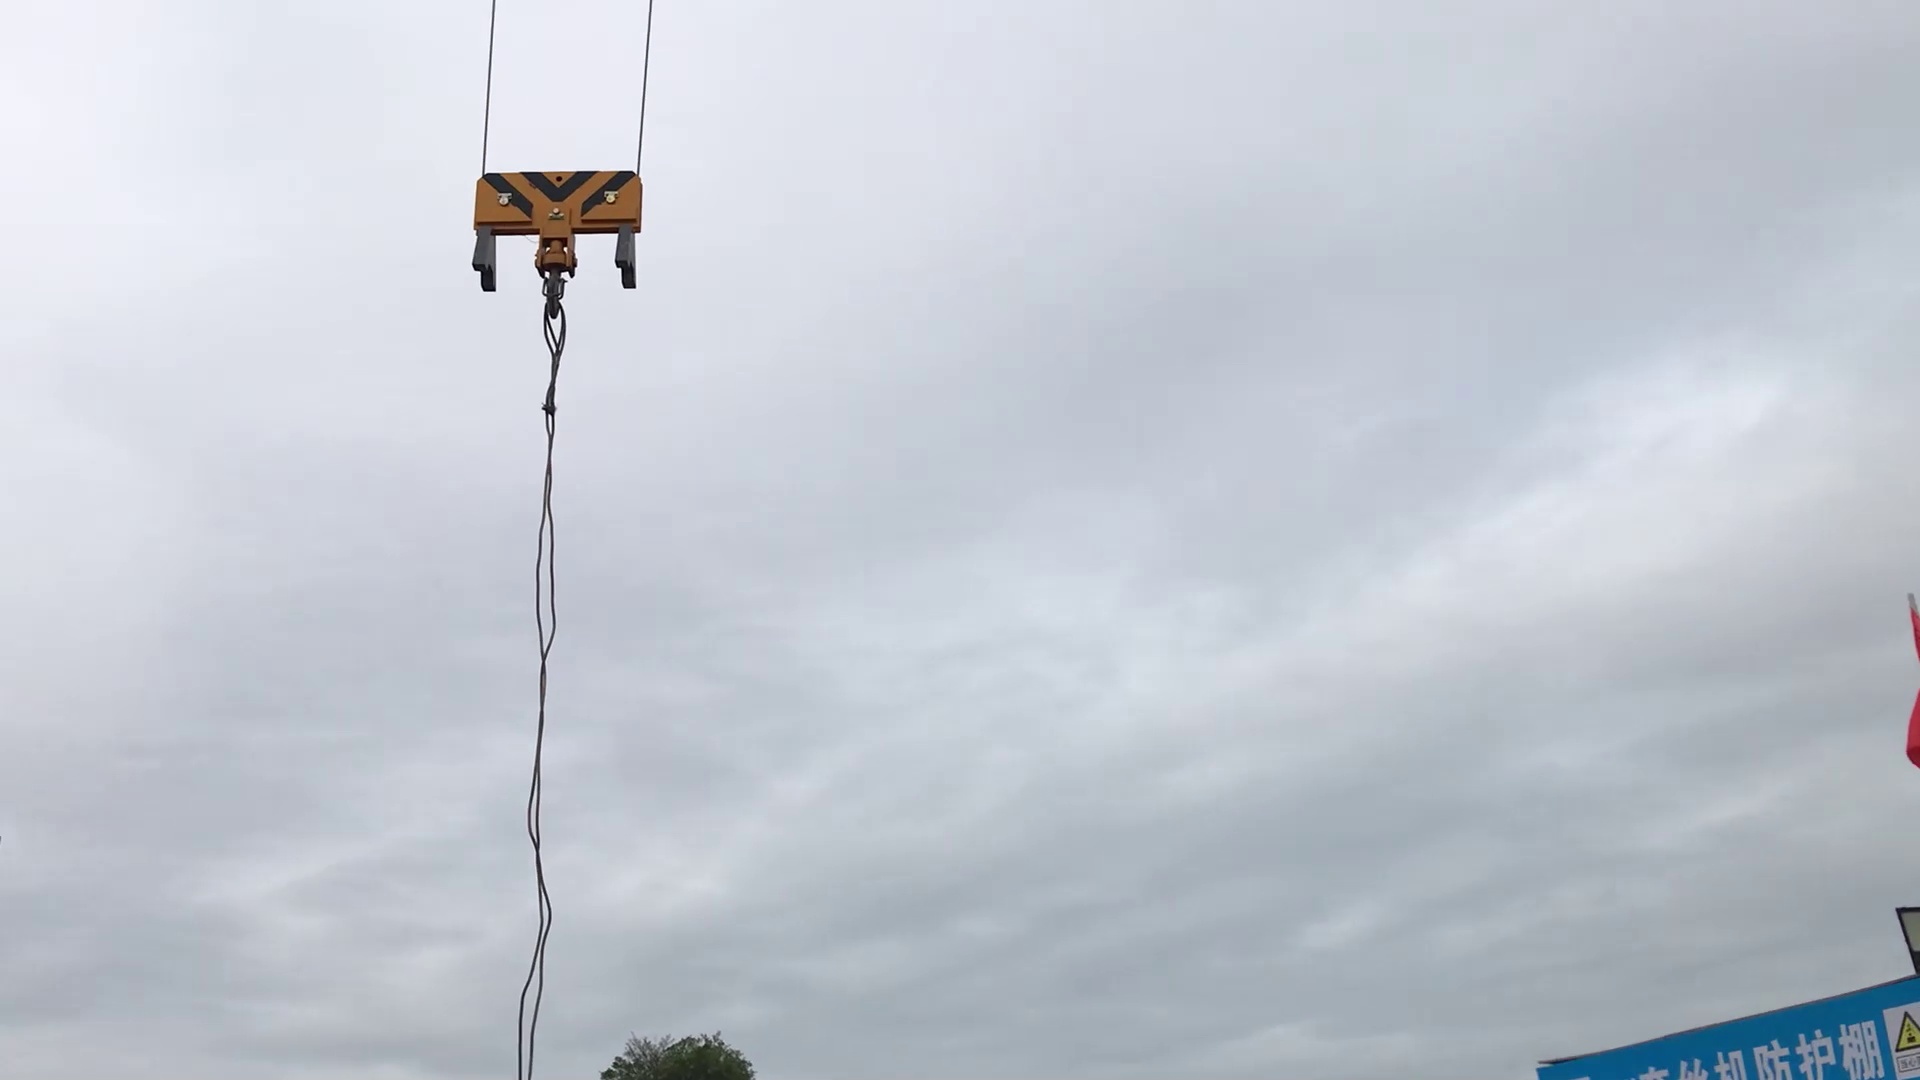hook: (454, 153, 673, 314)
